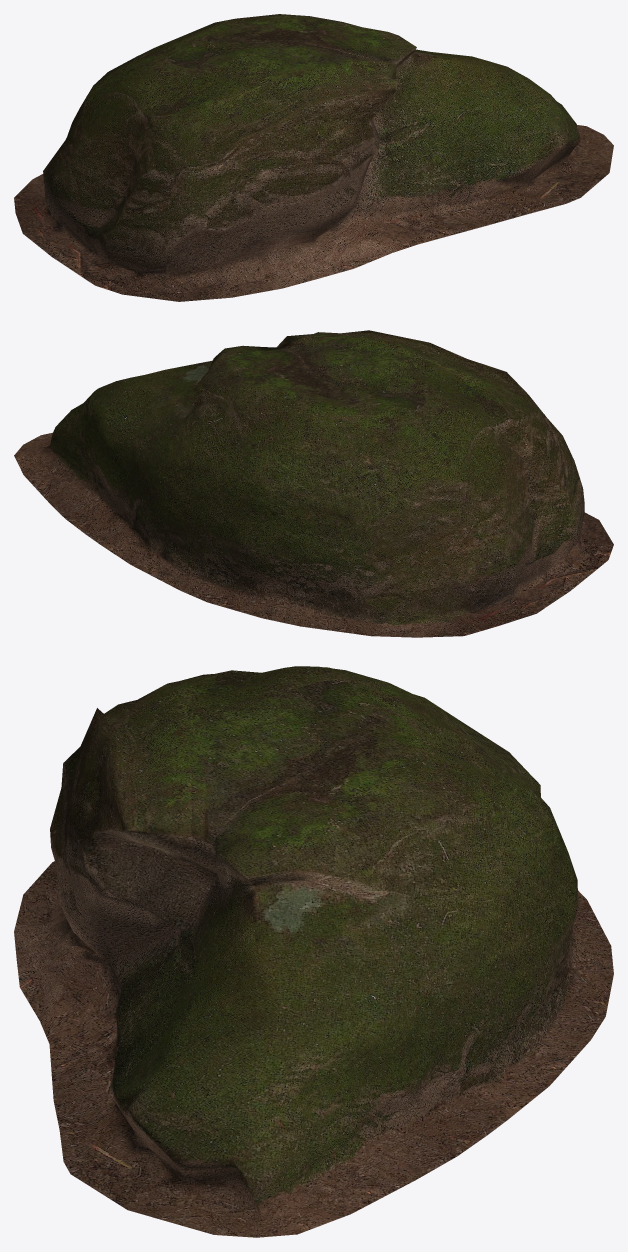
File: boulder.glb
3 views of the same model, one above another, from view 1: azimuth 30°, elevation 25°; view 2: azimuth 150°, elevation 25°; view 3: azimuth 270°, elevation 25° (orthographic). The views are drawn at different scales.
Parts seen in each view (by area): view 1: boulder_S_Mossy_Forest_Boulder_wc1kebr_lod3_Var1_LOD0; view 2: boulder_S_Mossy_Forest_Boulder_wc1kebr_lod3_Var1_LOD0; view 3: boulder_S_Mossy_Forest_Boulder_wc1kebr_lod3_Var1_LOD0.
Part boxes in pixels (box(x1,y1,x2,y2)): boulder_S_Mossy_Forest_Boulder_wc1kebr_lod3_Var1_LOD0: box(14, 14, 613, 301); boulder_S_Mossy_Forest_Boulder_wc1kebr_lod3_Var1_LOD0: box(14, 330, 613, 637); boulder_S_Mossy_Forest_Boulder_wc1kebr_lod3_Var1_LOD0: box(14, 666, 613, 1237).
Bounding box in the file's own units: 2.84 × 0.811 × 1.74.
Materials: 1 (1 with a texture image).
